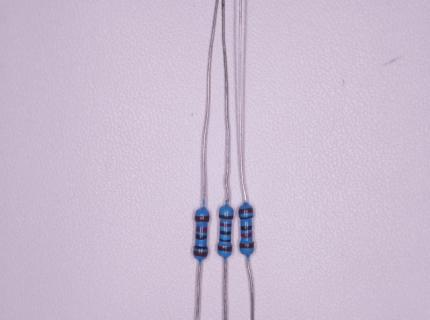Black band: (195, 233, 208, 240), (240, 215, 254, 221), (194, 244, 208, 250), (240, 226, 253, 231), (219, 229, 231, 234), (219, 238, 231, 243)
Brown band: (238, 208, 254, 215), (217, 245, 233, 251), (239, 242, 255, 248), (195, 215, 210, 221), (218, 214, 233, 220), (193, 251, 208, 257)
Red band: (196, 226, 208, 233), (240, 233, 252, 239), (219, 223, 231, 227)
